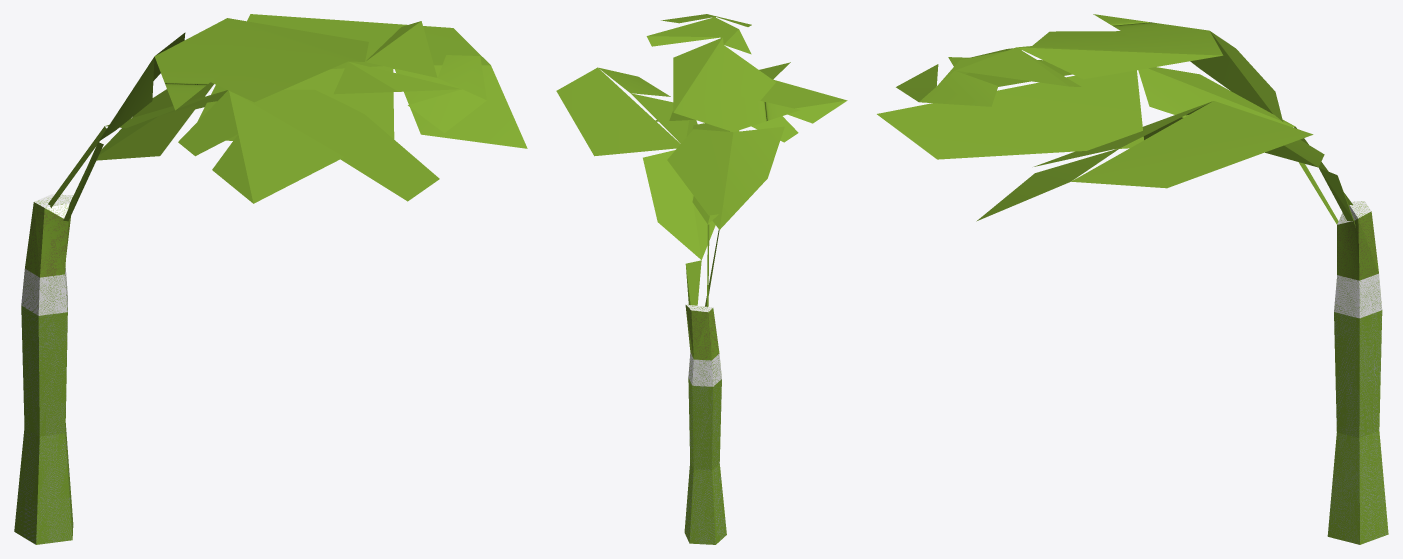
Rendered from Tree_Bamboo_08.fbx.
The picture shows the model from 3 angles, left to right: view 1: azimuth 30°, elevation 25°; view 2: azimuth 150°, elevation 25°; view 3: azimuth 270°, elevation 25°; orthographic projection. The views are drawn at different scales.
Parts seen in each view (by area): view 1: Model; view 2: Model; view 3: Model.
Part boxes in pixels (box(x1,y1,x2,y2)): Model: box(14, 14, 527, 544); Model: box(556, 14, 847, 544); Model: box(877, 14, 1388, 544).
Bounding box in the file's own units: 153 × 245 × 205.
